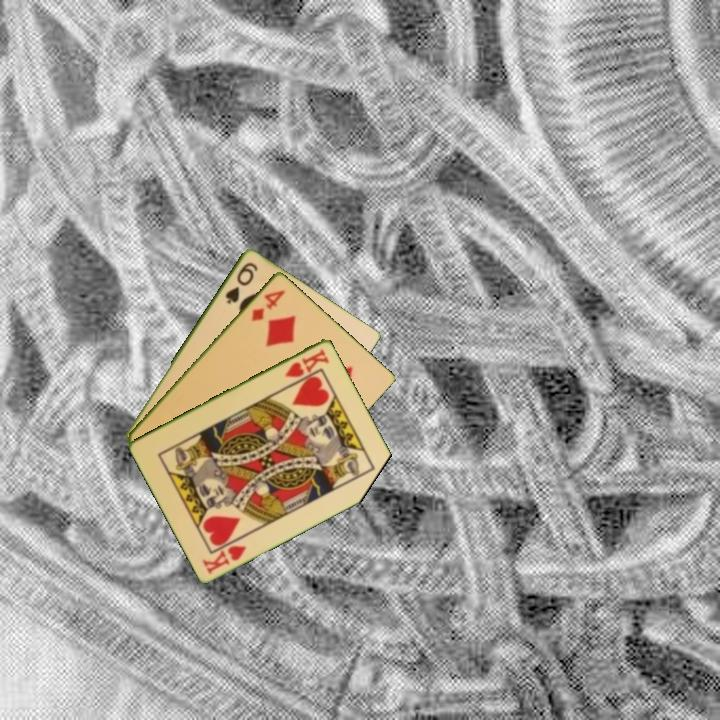4d: (248, 286, 288, 324)
6s: (221, 258, 261, 306)
Kh: (199, 541, 249, 577), (281, 345, 332, 380)
